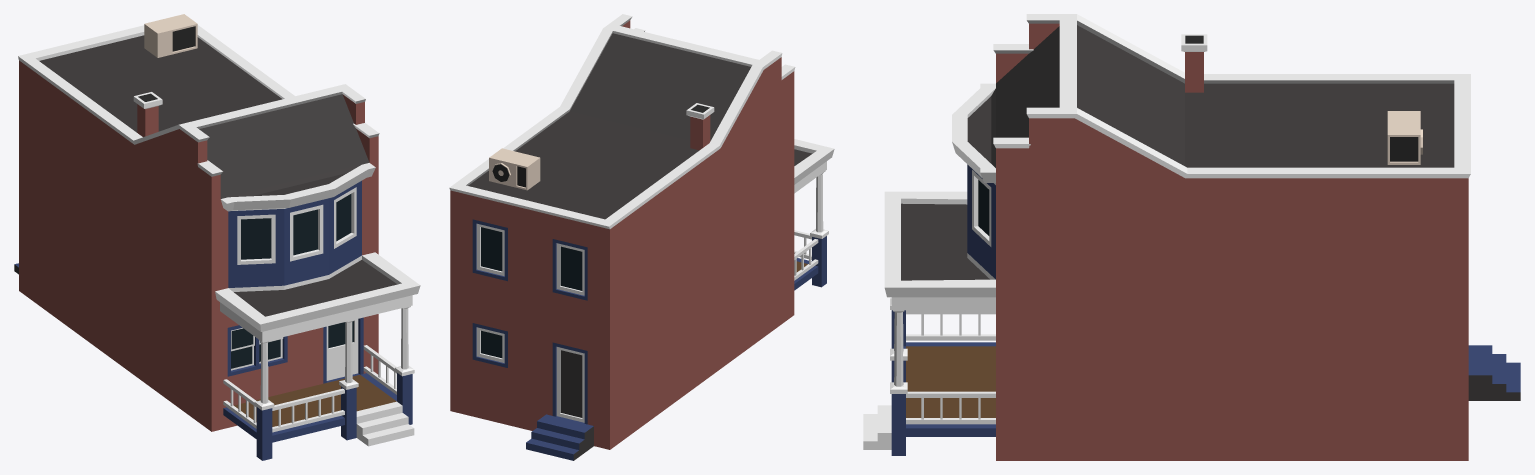
Rendered from building-house-block-old.glb.
3 views of the same model, side by side, from view 1: azimuth 30°, elevation 25°; view 2: azimuth 150°, elevation 25°; view 3: azimuth 270°, elevation 25° (orthographic). The views are drawn at different scales.
Parts seen in each view (by area): view 1: building-house-block-old; view 2: building-house-block-old; view 3: building-house-block-old.
Boxes of the visible parts, x1=… form: building-house-block-old: x1=14, y1=14, x2=420, y2=460; building-house-block-old: x1=449, y1=14, x2=834, y2=460; building-house-block-old: x1=863, y1=14, x2=1520, y2=460.
Size of the model in its own units: 5 by 8.1 by 13.9.
